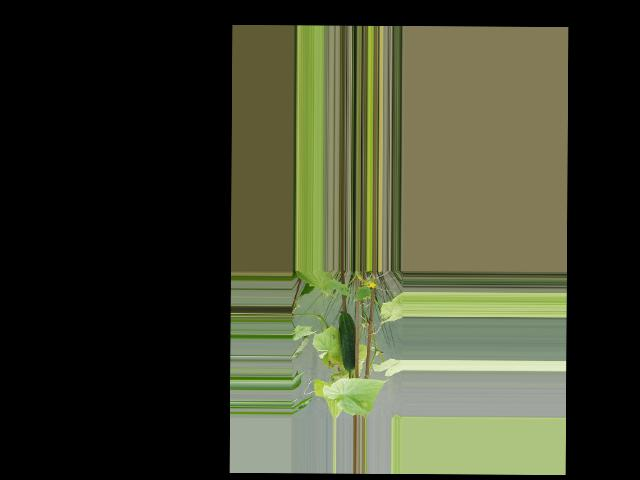cucumber: (338, 311, 356, 371)
